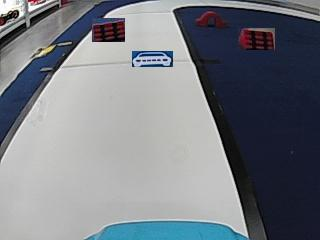bridge: (196, 10, 225, 27)
